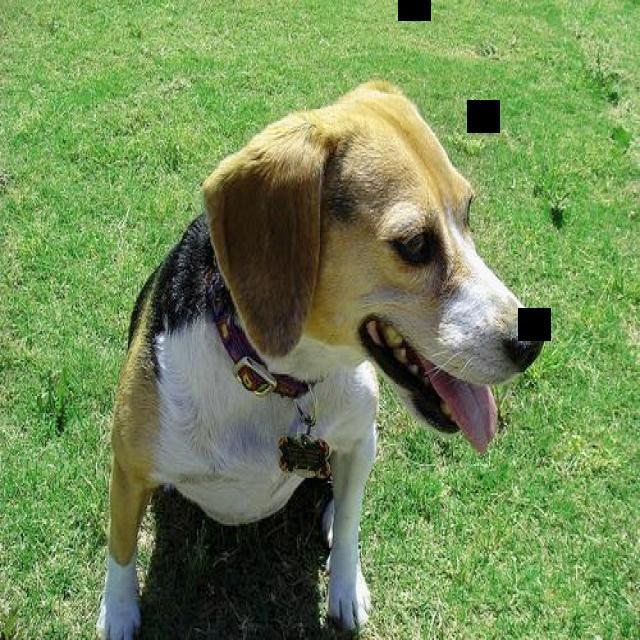adult_dog: (94, 77, 556, 640)
